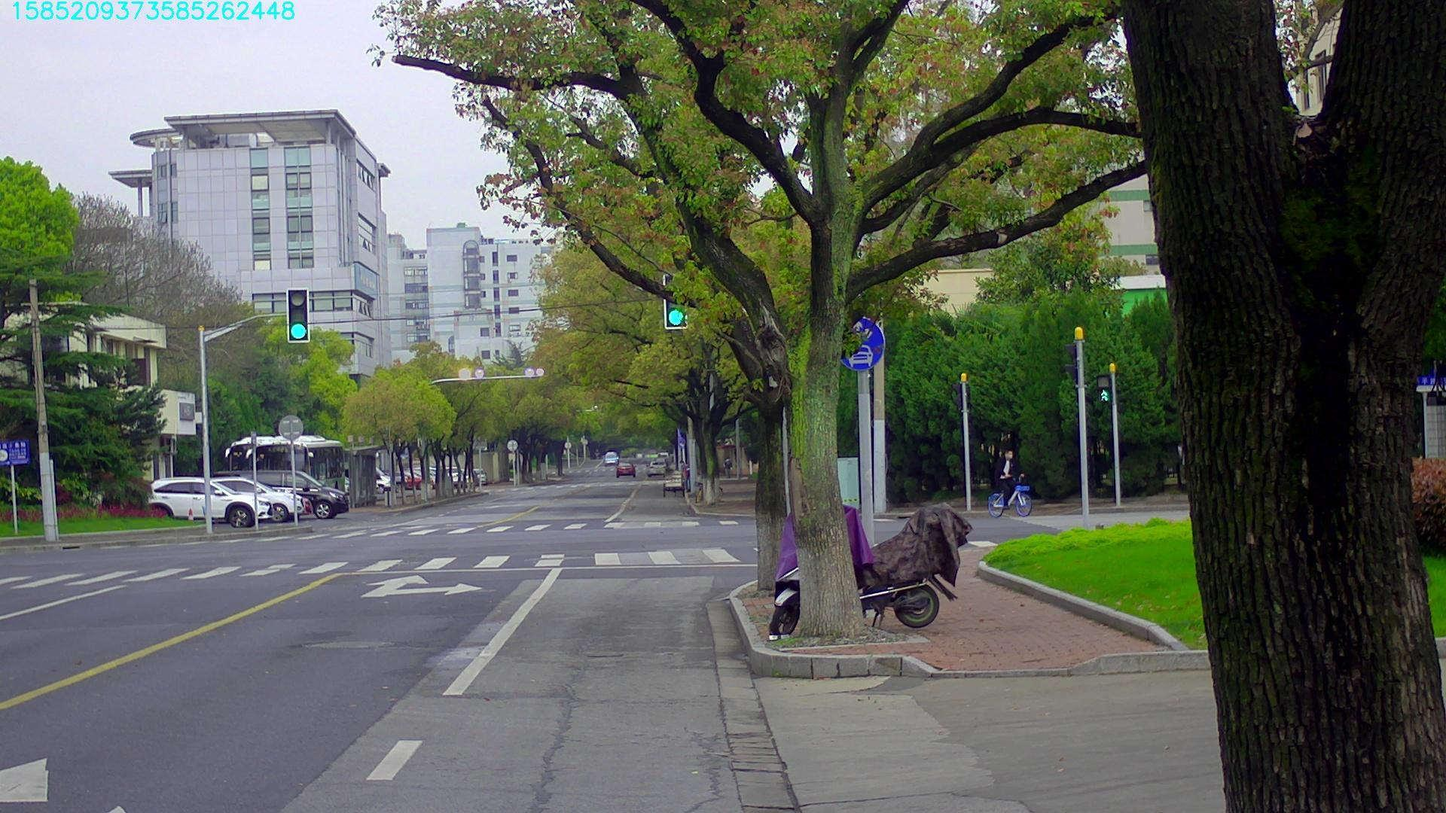green: (287, 289, 308, 341), (664, 276, 685, 327)
